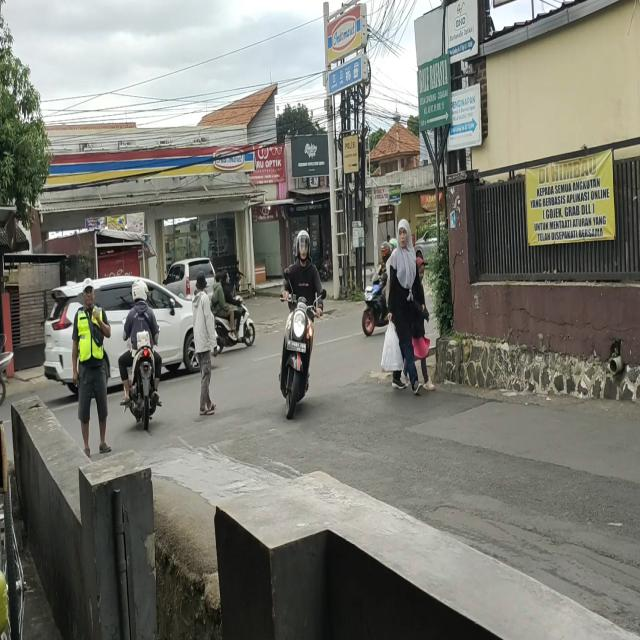helmet: (296, 231, 310, 261), (132, 278, 148, 301), (380, 244, 391, 261)
no-helmet: (220, 270, 231, 286)
